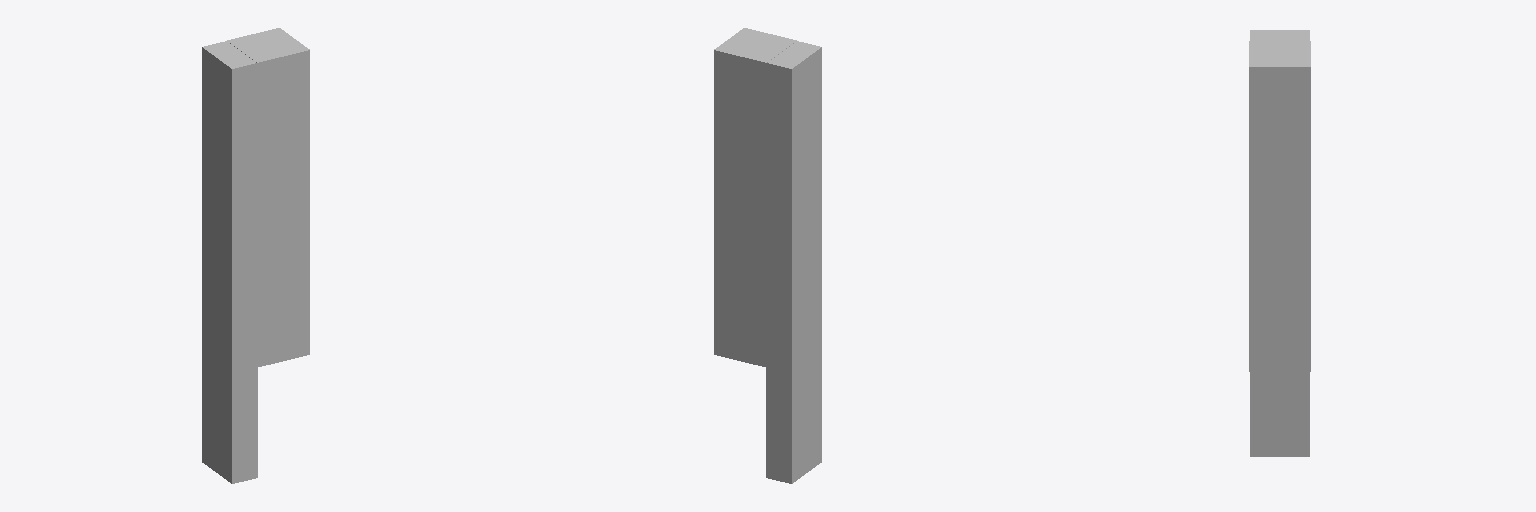
File: right_e_link.obj
3 views of the same model, side by side, from view 1: azimuth 30°, elevation 25°; view 2: azimuth 150°, elevation 25°; view 3: azimuth 270°, elevation 25° (orthographic).
Parts seen in each view (by area): view 1: cube.001; view 2: cube.001; view 3: cube.001.
Part boxes in pixels (x1,y1,x2,y2): cube.001: (202, 28, 309, 483); cube.001: (714, 28, 821, 483); cube.001: (1249, 30, 1310, 456).
Size of the model in its own units: 0.1838 by 0.9369 by 0.125.